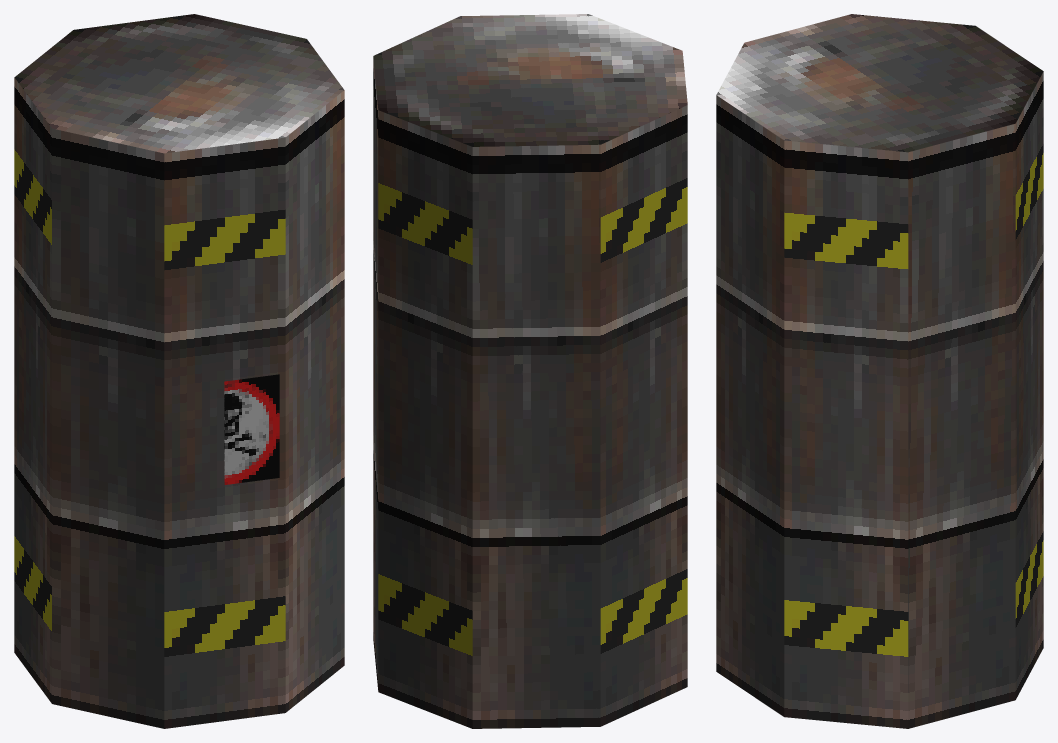
File: primary_130.glb
The picture shows the model from 3 angles, left to right: view 1: azimuth 30°, elevation 25°; view 2: azimuth 150°, elevation 25°; view 3: azimuth 270°, elevation 25°; orthographic projection.
Parts seen in each view (by area): view 1: Object; view 2: Object; view 3: Object.
Boxes of the visible parts, x1=… form: Object: x1=14, y1=14, x2=344, y2=728; Object: x1=373, y1=14, x2=687, y2=728; Object: x1=716, y1=14, x2=1043, y2=728.
Bounding box in the file's own units: 0.7691 × 1.49 × 0.7691.
9 materials, 9 textured.
